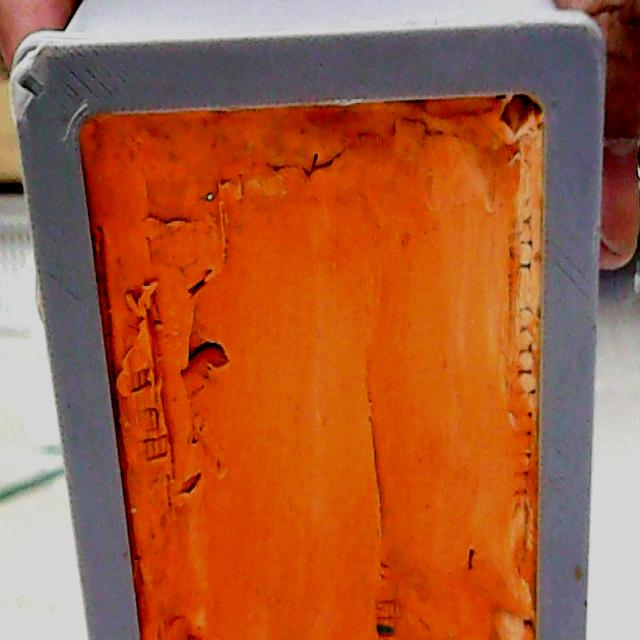block: (1, 0, 604, 640)
